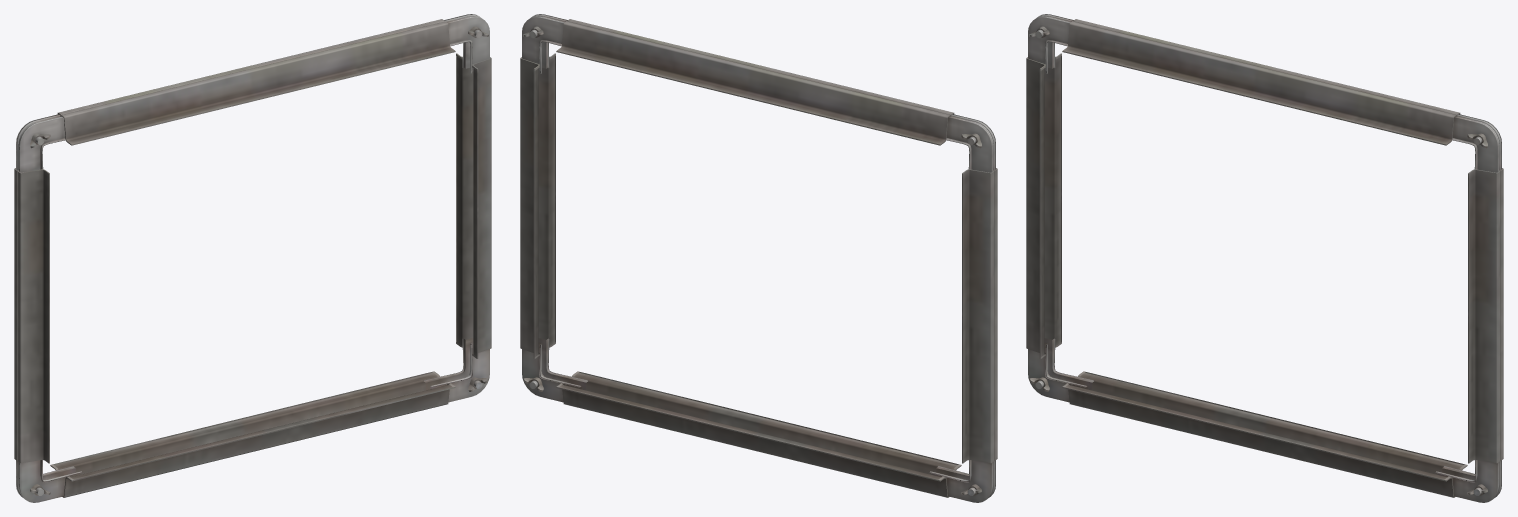
Rendered from fastener_01_025.gltf.
3 views of the same model, side by side, from view 1: azimuth 30°, elevation 25°; view 2: azimuth 150°, elevation 25°; view 3: azimuth 330°, elevation 25° (orthographic).
Visible parts, largest first — view 1: fastener_01_025; view 2: fastener_01_025; view 3: fastener_01_025.
Boxes of the visible parts, x1,y1,x2,y2 form: fastener_01_025: [14, 14, 491, 502]; fastener_01_025: [520, 14, 997, 502]; fastener_01_025: [1026, 14, 1503, 502].
Bounding box in the file's own units: 0.6634 × 0.5126 × 0.0519.
1 material, 1 textured.
